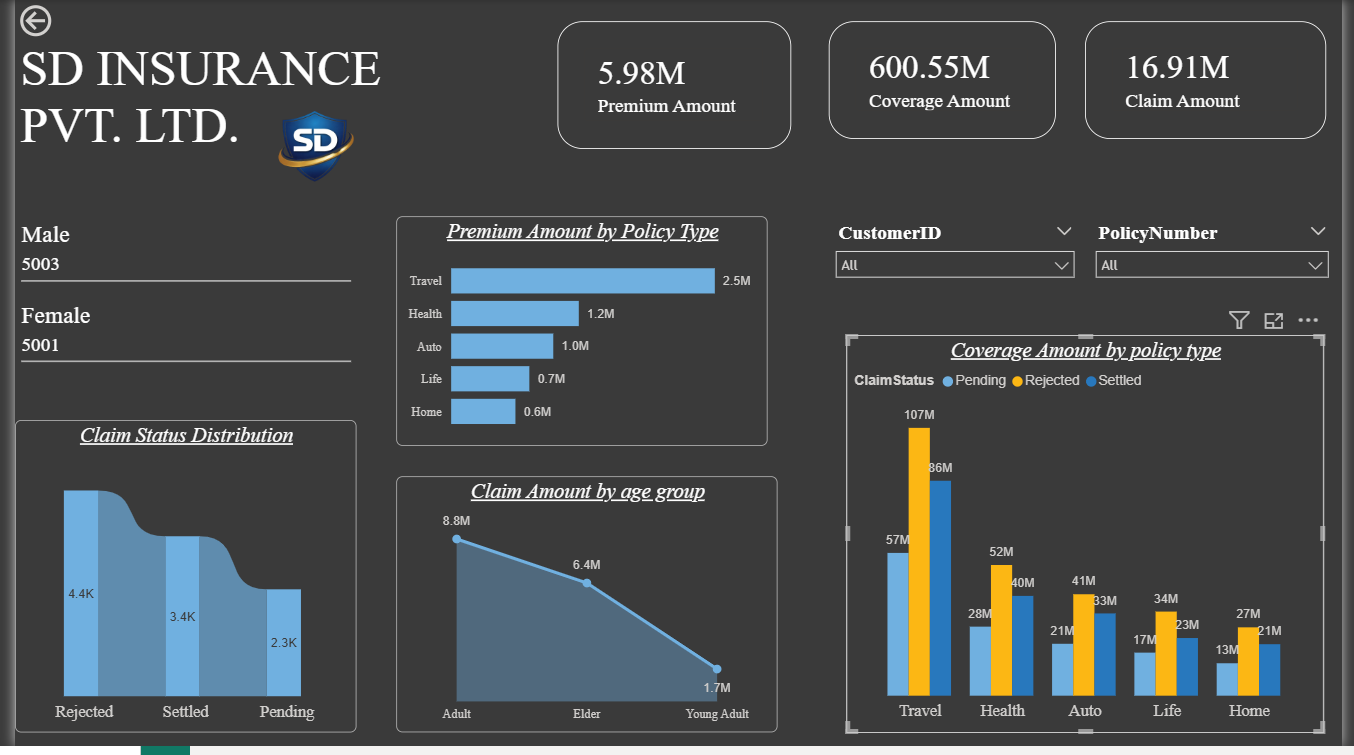

What the dashboard file says about the page in this screenshot:
{"tool":"powerbi","page":{"name":"insurance analysis","canvas":[1280,720],"ordinal":0},"visuals":[{"type":"slicer","fields":{"Values":["InsuranceData.PolicyNumber"]},"box":[1032.7,208.7,244.9,68.8],"z":0},{"type":"textbox","box":[0,33.8,470.5,188],"z":1000},{"type":"cardVisual","fields":{"Data":["Sum(InsuranceData.PremiumAmount)"]},"box":[523.6,20.5,225.6,123.1],"z":2000},{"type":"cardVisual","fields":{"Data":["Sum(InsuranceData.ClaimAmount)"]},"box":[1032.7,20.5,232.8,113.4],"z":3000},{"type":"multiRowCard","fields":{"Values":["CountNonNull(InsuranceData.Gender)","InsuranceData.Gender"]},"box":[1.2,208.7,328.2,181],"z":4000},{"type":"ribbonChart","title":"Claim Status Distribution","fields":{"Category":["InsuranceData.ClaimStatus"],"Y":["CountNonNull(InsuranceData.ClaimStatus)"]},"box":[0,405.4,329.4,301.6],"z":5000},{"type":"barChart","title":"Premium Amount by Policy Type","fields":{"Category":["InsuranceData.PolicyType"],"Y":["Sum(InsuranceData.PremiumAmount)"]},"box":[368,208.7,358.3,222],"z":6000},{"type":"lineChart","title":" Claim Amount by age group","fields":{"Category":["InsuranceData.age group"],"Y":["Sum(InsuranceData.ClaimAmount)"]},"box":[368,459.7,368,247.3],"z":7000},{"type":"clusteredColumnChart","title":"Coverage Amount by policy type","fields":{"Category":["InsuranceData.PolicyType"],"Y":["Sum(InsuranceData.CoverageAmount)"],"Series":["InsuranceData.ClaimStatus"]},"box":[802.3,323.3,460.9,383.6],"z":8000},{"type":"actionButton","box":[0,0,100,40],"z":9000},{"type":"image","box":[235.3,100.1,108.6,85.7],"z":10000},{"type":"cardVisual","fields":{"Data":["Sum(InsuranceData.CoverageAmount)"]},"box":[785.4,20.5,219.6,113.4],"z":11000},{"type":"slicer","fields":{"Values":["InsuranceData.CustomerID"]},"box":[781.8,208.7,250.9,89.3],"z":12000}]}

Visuals, with their boxes in screenshot pixels (x1, y1, x2, y2), scaled from the page's 1280x720 canvas onto the 1354x755 screenshot:
slicer - InsuranceData.PolicyNumber: rect(1092, 219, 1351, 291)
textbox: rect(0, 35, 498, 233)
cardVisual - Sum(InsuranceData.PremiumAmount): rect(554, 21, 793, 151)
cardVisual - Sum(InsuranceData.ClaimAmount): rect(1092, 21, 1339, 140)
multiRowCard - CountNonNull(InsuranceData.Gender) x InsuranceData.Gender: rect(1, 219, 348, 409)
"Claim Status Distribution" ribbonChart: rect(0, 425, 348, 741)
"Premium Amount by Policy Type" barChart: rect(389, 219, 768, 452)
" Claim Amount by age group" lineChart: rect(389, 482, 779, 741)
"Coverage Amount by policy type" clusteredColumnChart: rect(849, 339, 1336, 741)
actionButton: rect(0, 0, 106, 42)
image: rect(249, 105, 364, 195)
cardVisual - Sum(InsuranceData.CoverageAmount): rect(831, 21, 1063, 140)
slicer - InsuranceData.CustomerID: rect(827, 219, 1092, 312)
